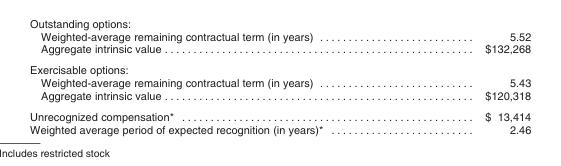table: (29, 29, 530, 135)
table column: (29, 29, 403, 135), (403, 29, 530, 135)
table projected row header: (29, 58, 530, 75)
table row: (29, 58, 530, 75), (29, 88, 530, 105), (29, 105, 530, 122), (29, 42, 530, 58), (29, 29, 530, 42), (29, 75, 530, 88), (29, 122, 530, 135)
